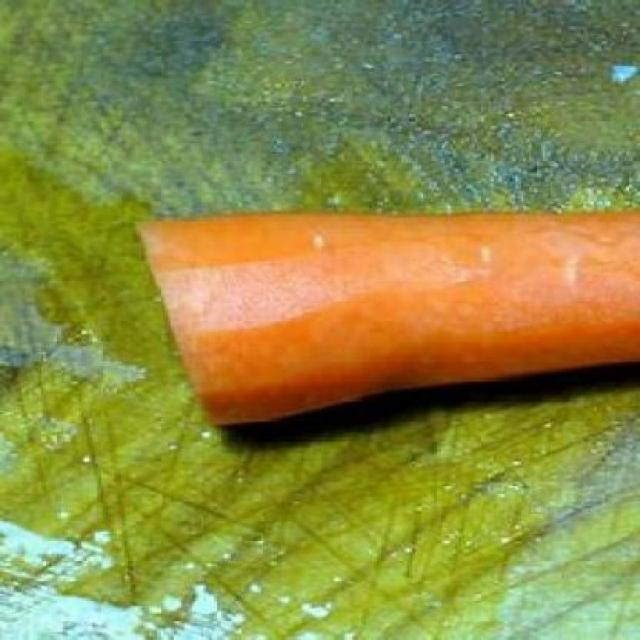carrot: (95, 181, 640, 433)
